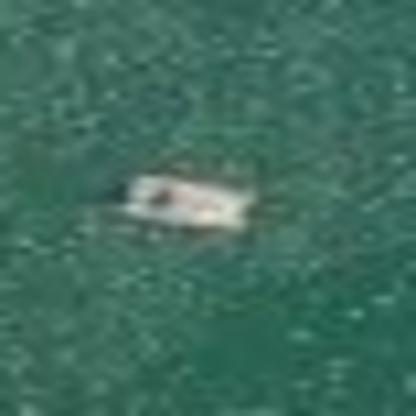ship: (106, 164, 265, 250)
